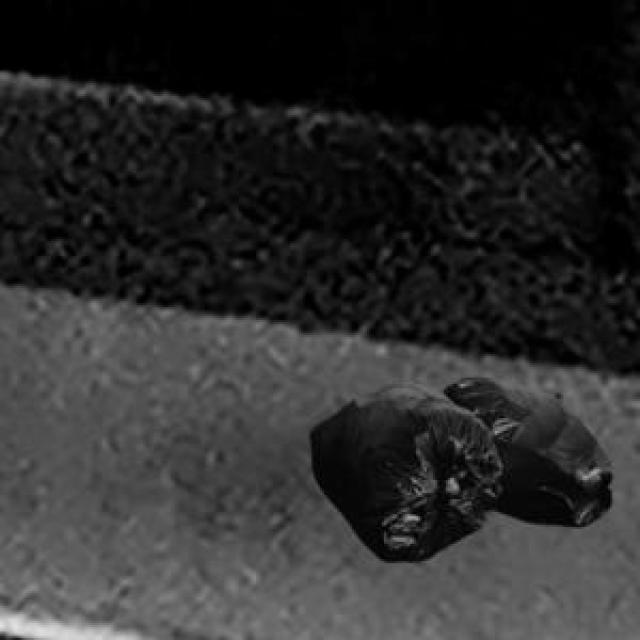miscellaneous trash: (307, 373, 608, 557)
